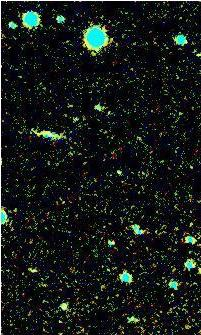star: (4, 191, 34, 221)
